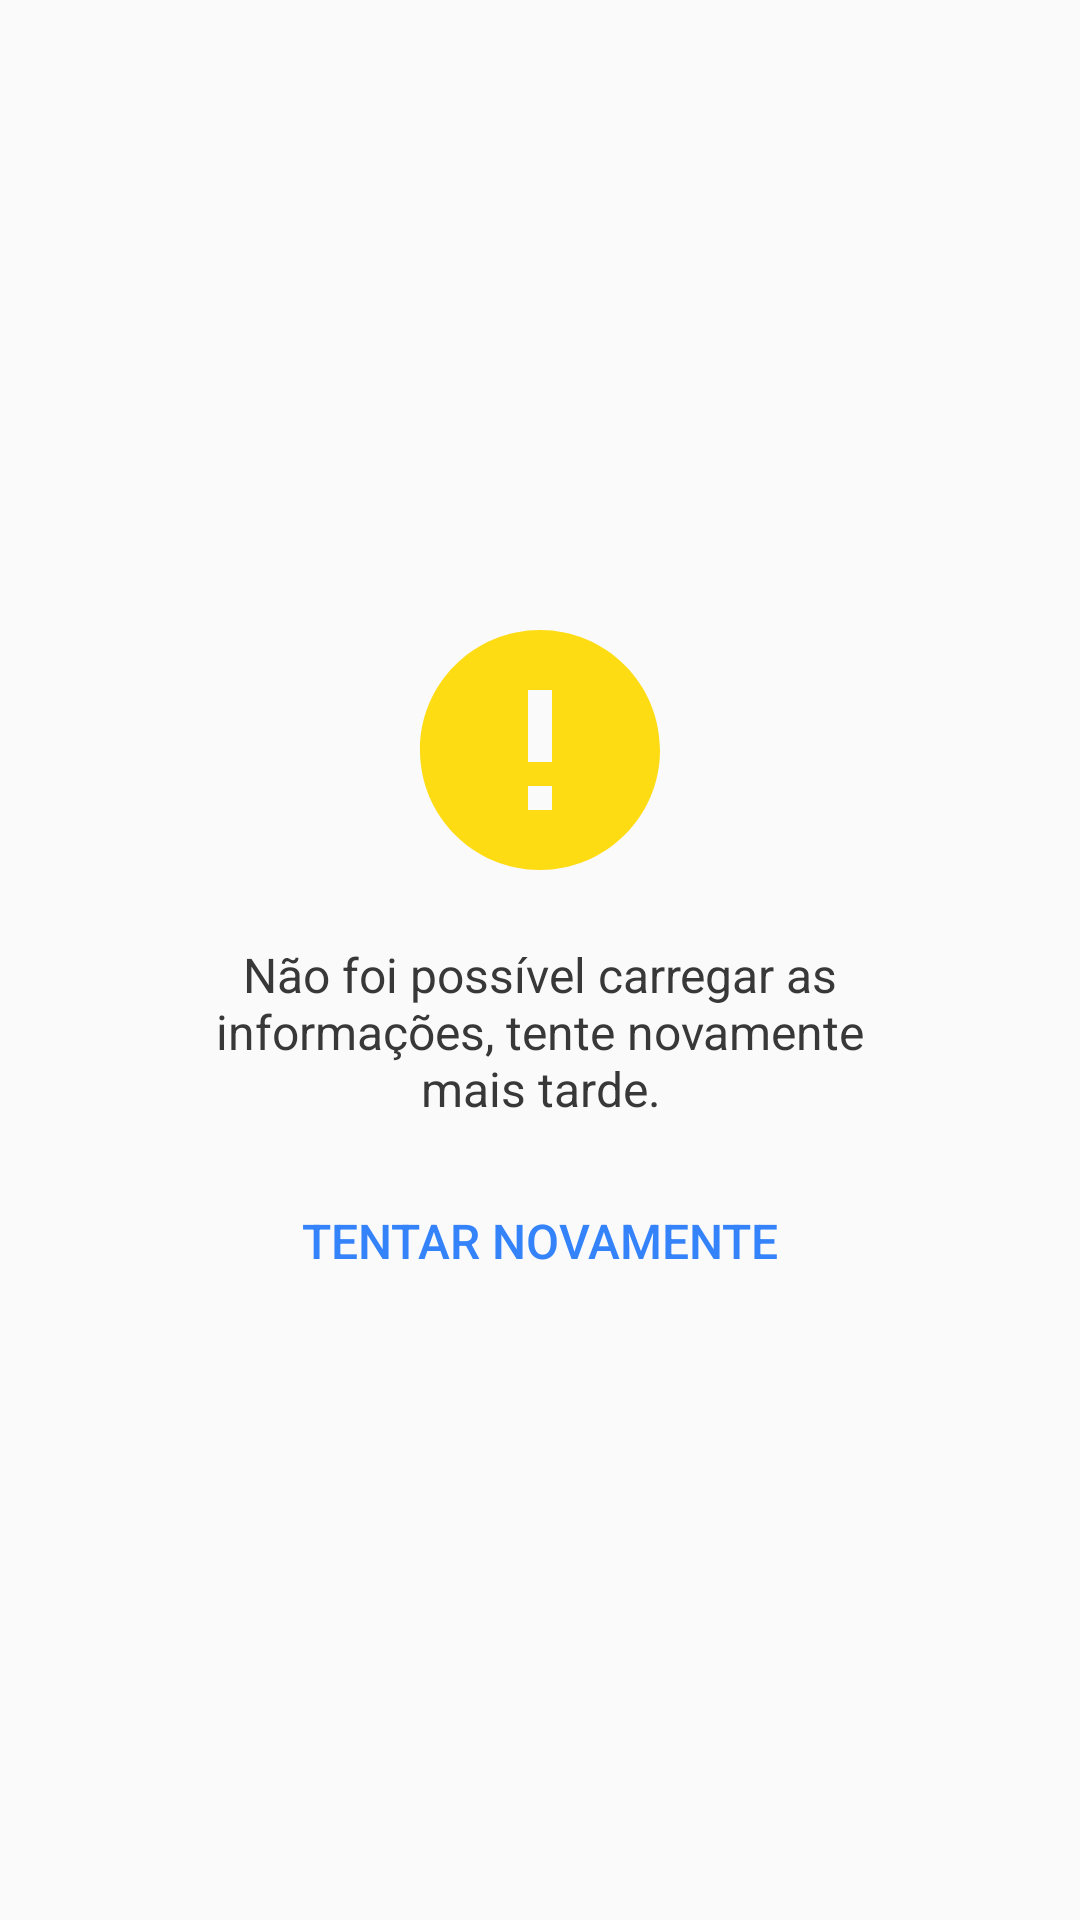

Locate icon controls on the screen. Image size 1080w x 1920h, boxes as (x1, y1, x2, y2).
Atenção: (420, 630, 660, 870)
